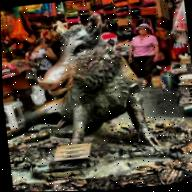boar: (18, 0, 161, 168)
